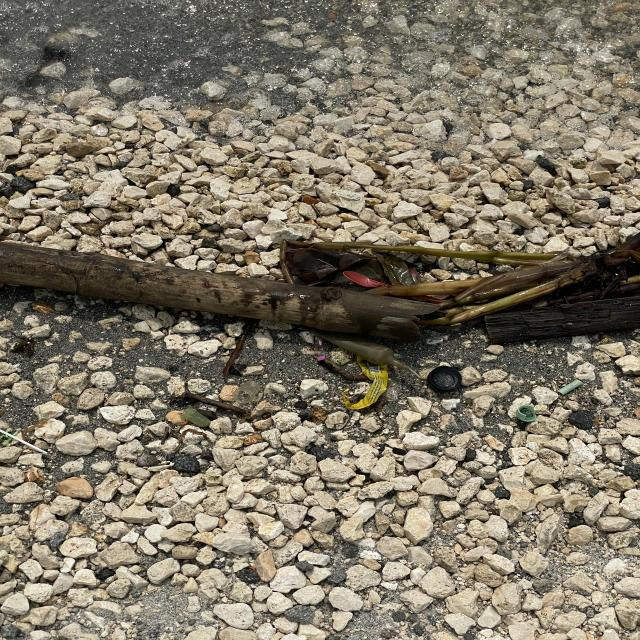plastic_waste: (341, 353, 389, 412), (430, 370, 465, 394), (517, 405, 538, 424)
